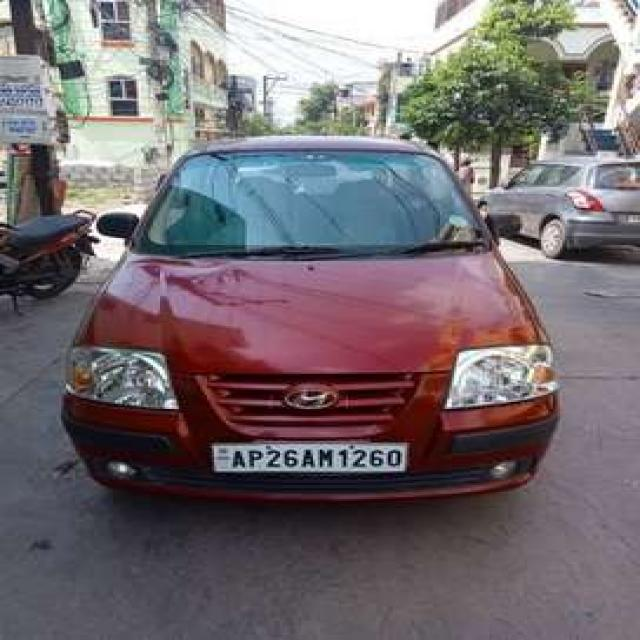Plate: (210, 440, 406, 470)
